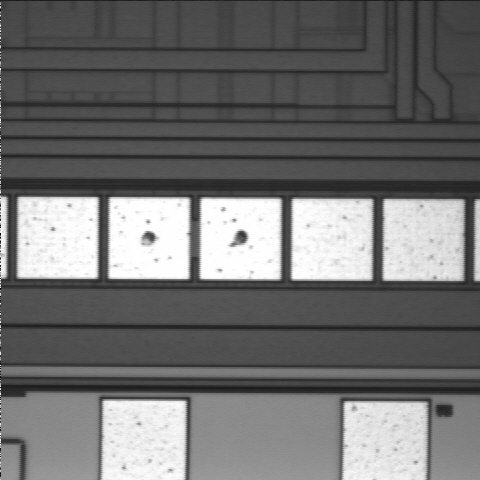pad: (17, 197, 98, 279), (109, 197, 190, 279), (200, 198, 281, 280), (291, 199, 372, 281), (383, 199, 464, 281)
